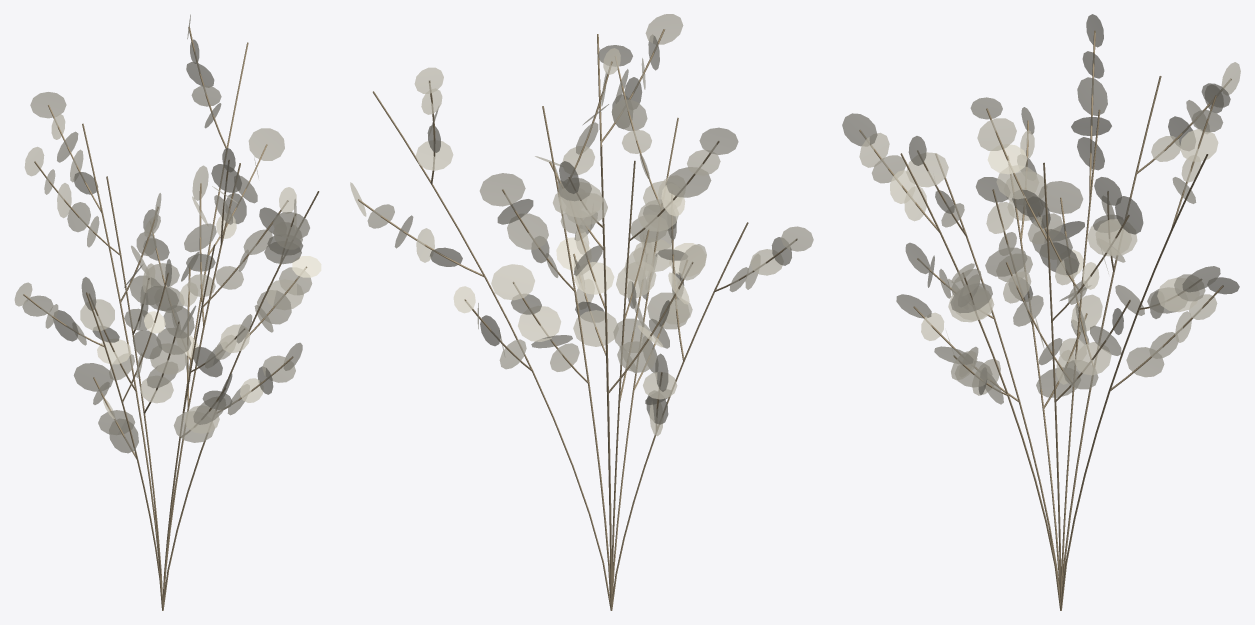
File: lunaria-2.glb
The picture shows the model from 3 angles, left to right: view 1: azimuth 30°, elevation 25°; view 2: azimuth 150°, elevation 25°; view 3: azimuth 270°, elevation 25°; orthographic projection. The views are drawn at different scales.
Visible parts, largest first — view 1: lunaria-leaves, lunaria-stems; view 2: lunaria-leaves, lunaria-stems; view 3: lunaria-leaves, lunaria-stems.
Boxes of the visible parts, x1=… form: lunaria-leaves: x1=14, y1=14, x2=321, y2=453; lunaria-stems: x1=23, y1=26, x2=319, y2=610; lunaria-leaves: x1=350, y1=14, x2=813, y2=436; lunaria-stems: x1=358, y1=29, x2=797, y2=610; lunaria-leaves: x1=842, y1=14, x2=1240, y2=404; lunaria-stems: x1=859, y1=30, x2=1231, y2=610.
Bounding box in the file's own units: 0.5119 × 0.7395 × 0.461.
